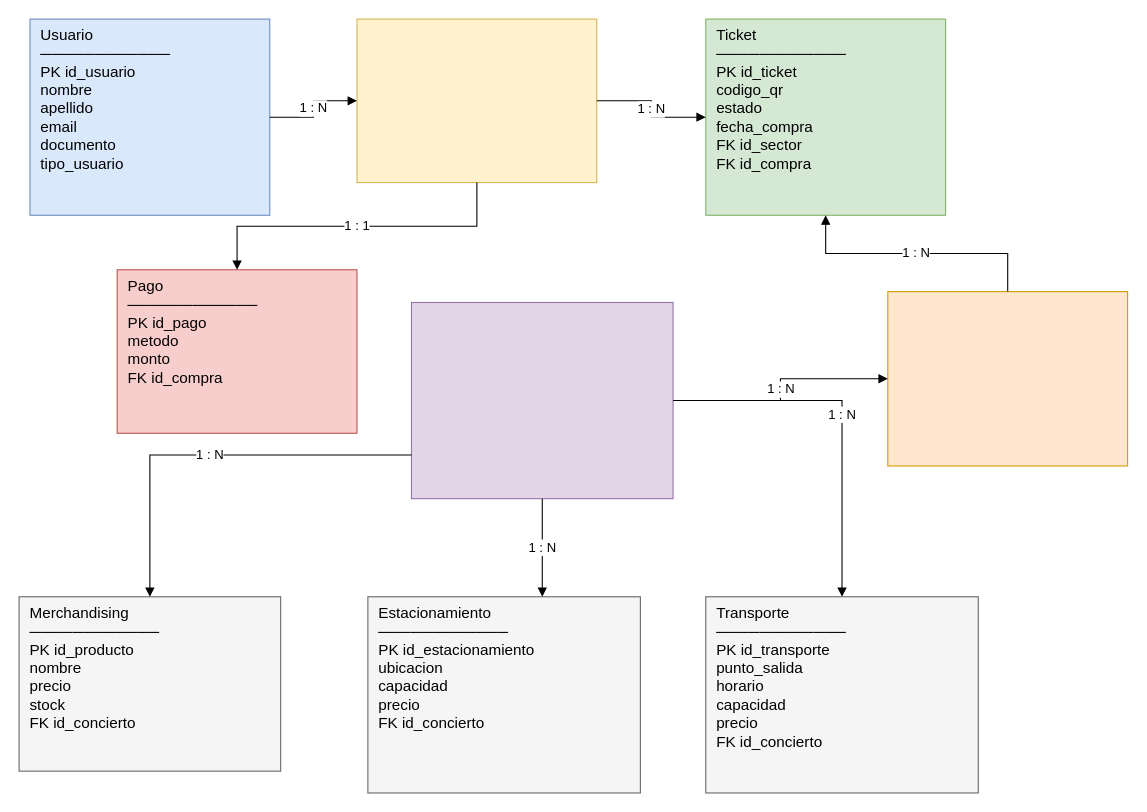
Some shapes in this 1147 by 812 pixel diagram are drawn without their labels. Here are the shapes that lost their labels. From the top down, the box of each, then its label:
(356, 18, 597, 183): Compra ──────────── PK id_compra fecha total FK id_usuario
(887, 290, 1128, 466): Sector ──────────── PK id_sector nombre capacidad precio FK id_concierto
(410, 301, 673, 499): Concierto ──────────── PK id_concierto artista fecha hora lugar capacidad_total
